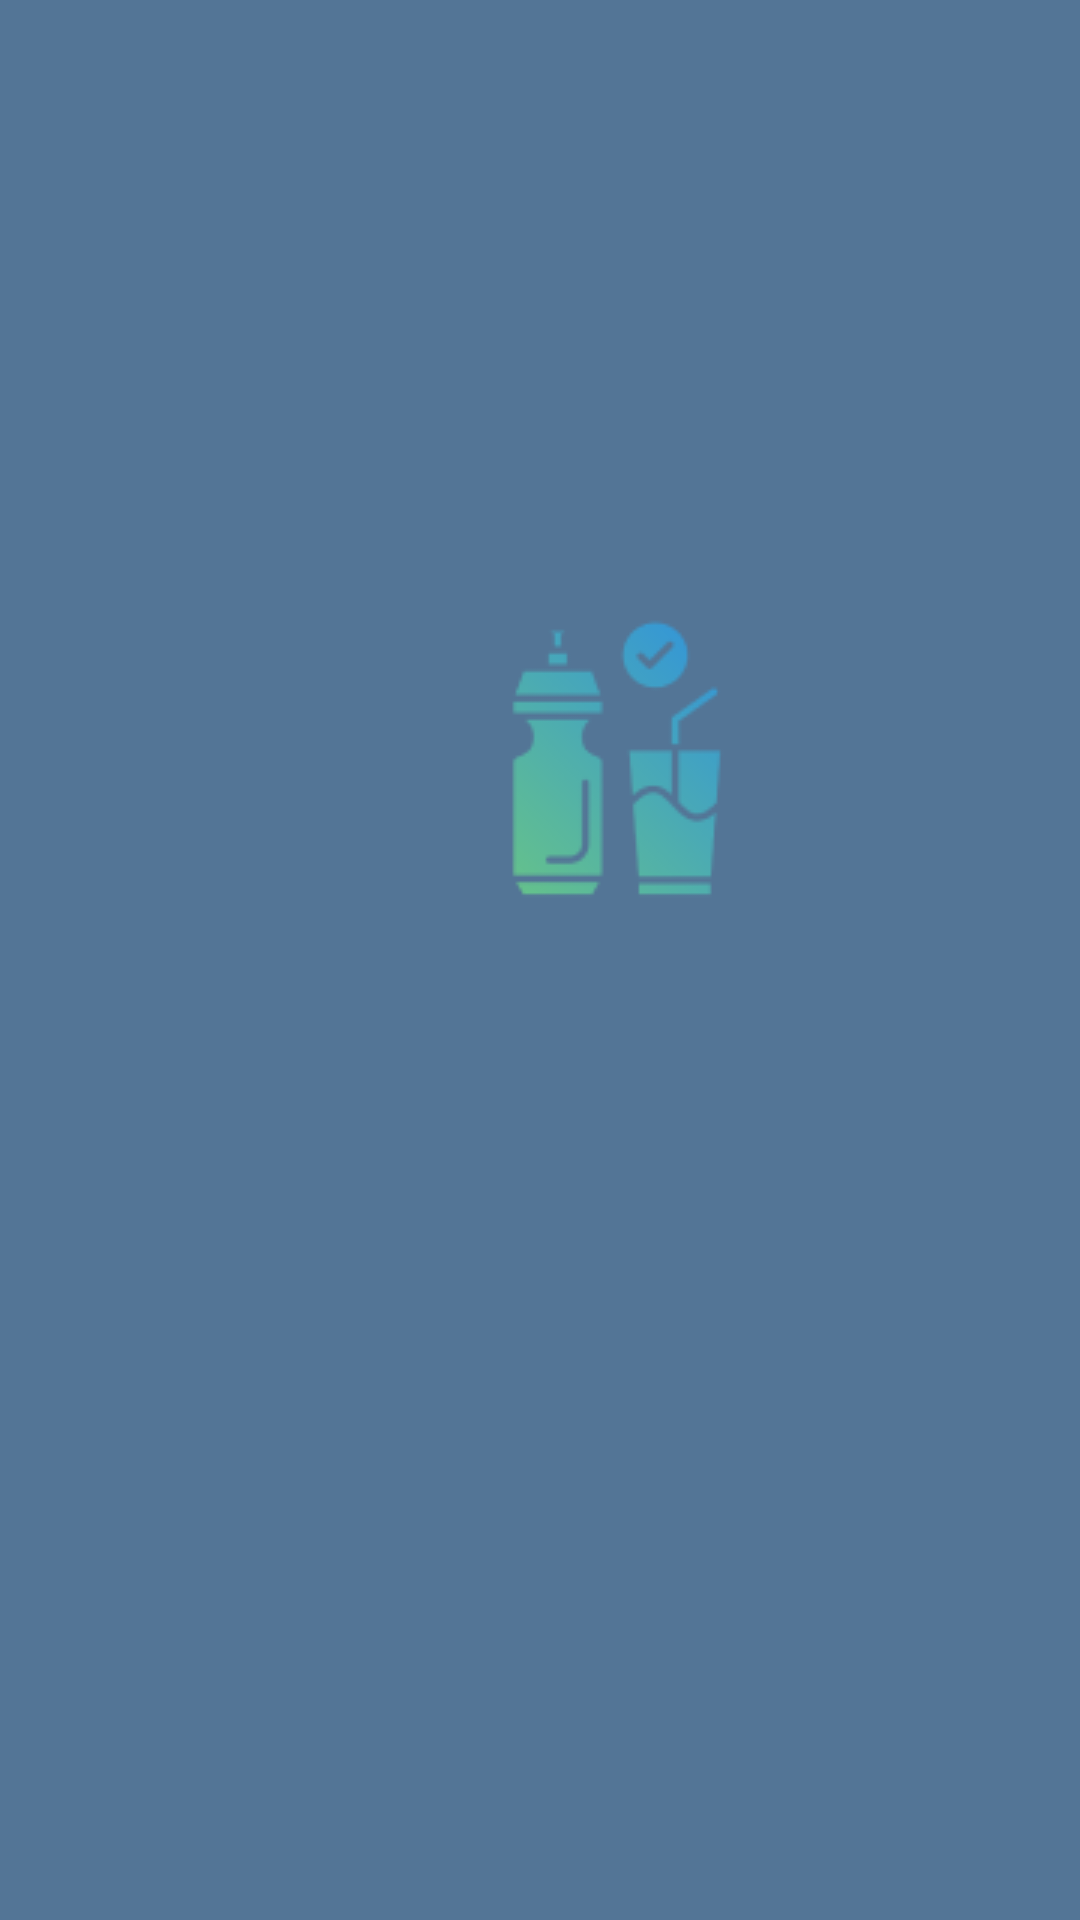

Locate icon controls on the screen. Image size 1080px x 1920px, boxes as detection(x1, y1, x2, y2).
waterconsumption: detection(513, 623, 720, 895)
